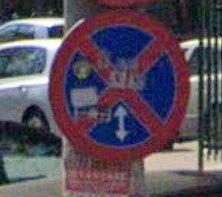oprirea_interzisa: (46, 9, 193, 165)
